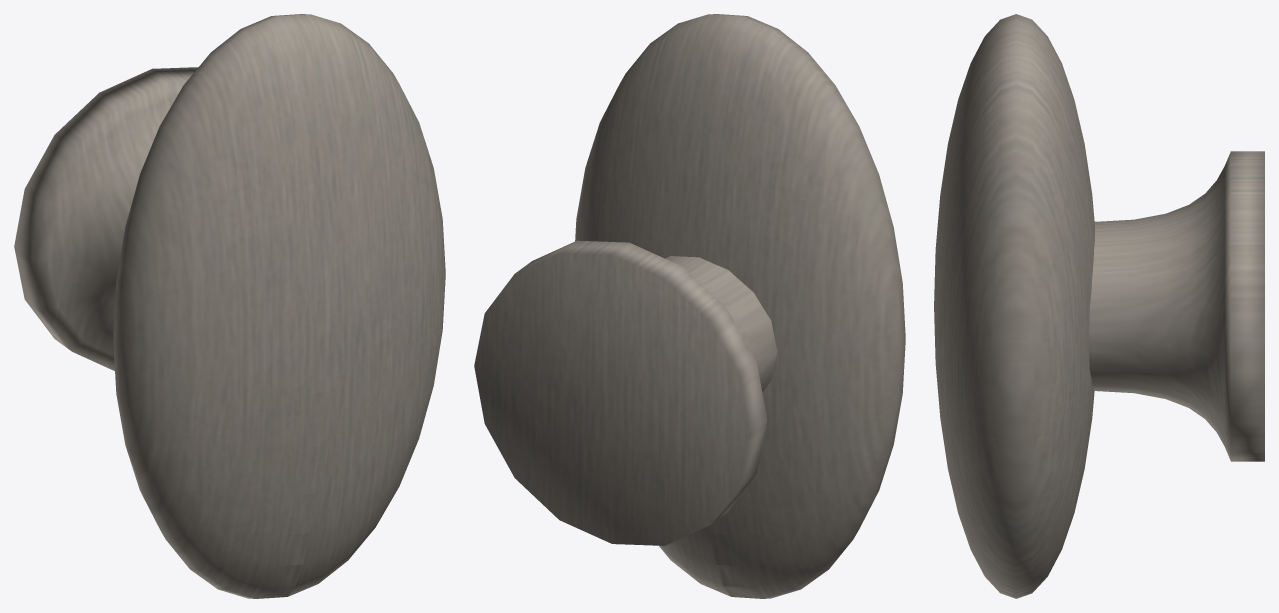
3 views of the same model, side by side, from view 1: azimuth 30°, elevation 25°; view 2: azimuth 150°, elevation 25°; view 3: azimuth 270°, elevation 25° (orthographic). The views are drawn at different scales.
Visible parts, largest first — view 1: zinc; view 2: zinc; view 3: zinc.
Boxes of the visible parts, x1=… form: zinc: x1=14, y1=14, x2=445, y2=598; zinc: x1=474, y1=14, x2=905, y2=598; zinc: x1=934, y1=14, x2=1264, y2=598.
Size of the model in its own units: 0.0348 by 0.0598 by 0.0317.
1 material, 1 textured.
